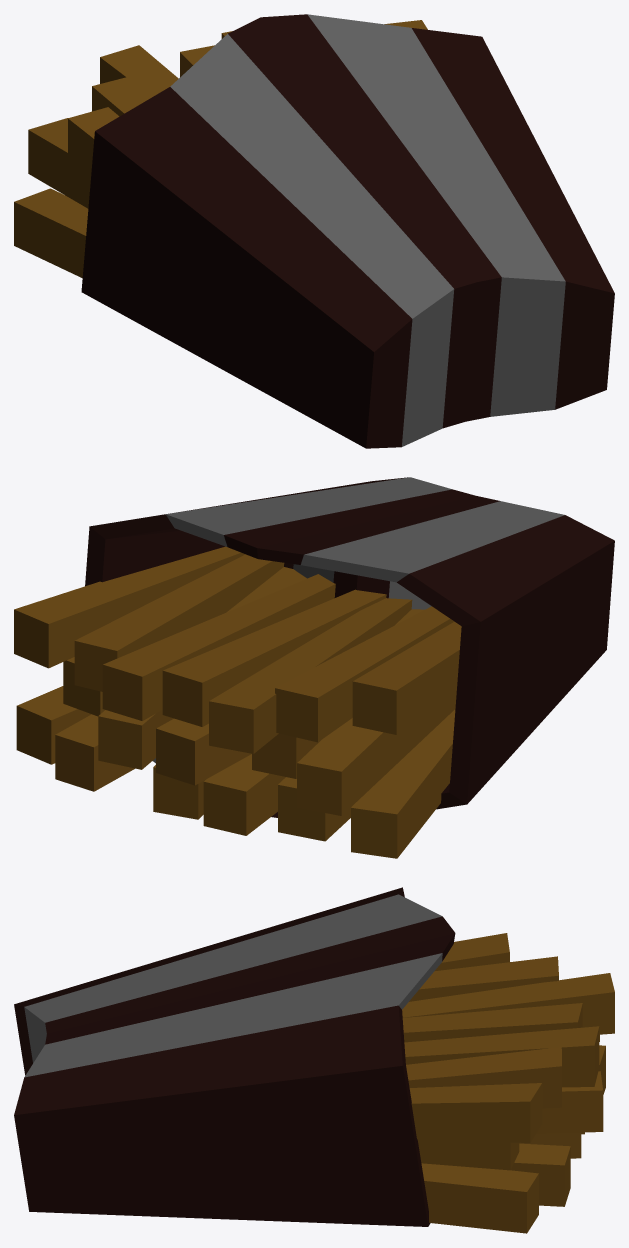
File: Fries.obj
3 views of the same model, one above another, from view 1: azimuth 30°, elevation 25°; view 2: azimuth 150°, elevation 25°; view 3: azimuth 270°, elevation 25° (orthographic). The views are drawn at different scales.
Visible parts, largest first — view 1: Fries_Cube.026; view 2: Fries_Cube.026; view 3: Fries_Cube.026.
Boxes of the visible parts, x1=… form: Fries_Cube.026: x1=14, y1=14, x2=614, y2=448; Fries_Cube.026: x1=14, y1=477, x2=614, y2=858; Fries_Cube.026: x1=14, y1=887, x2=614, y2=1233.
Bounding box in the file's own units: 0.9488 × 0.5857 × 1.33.
